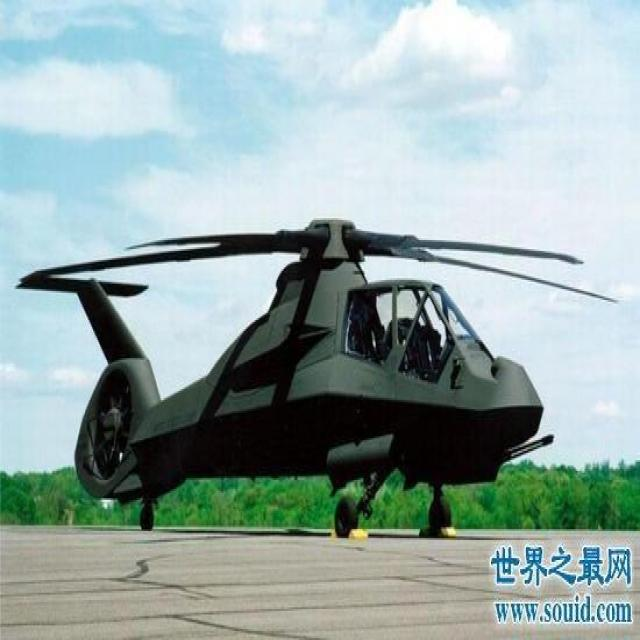MIL_HELO: (11, 220, 638, 540)
